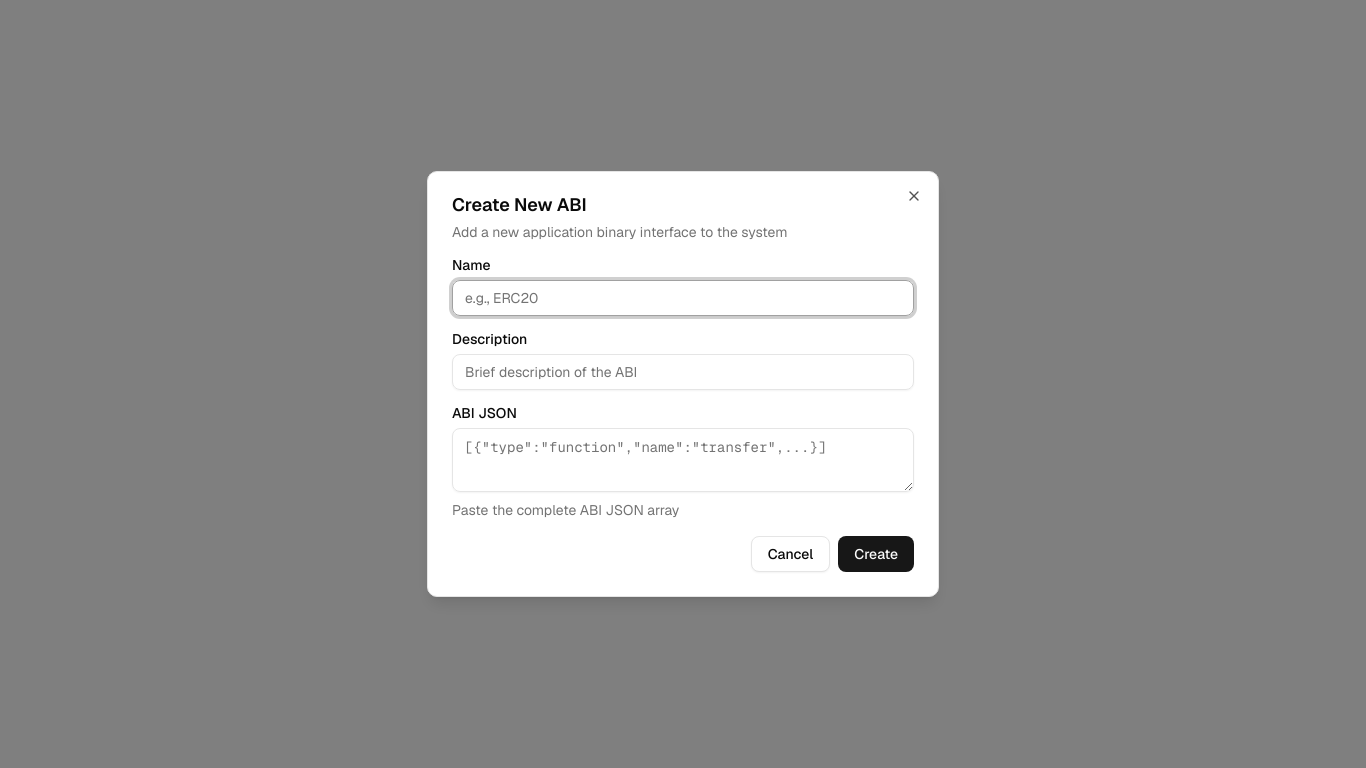
Test: AbiFormDialog › Create mode › shows validation error when ABI JSON is empty
In the field labelled "Name": coordinates (683, 298) [452,280,914,316], type "Test ABI"
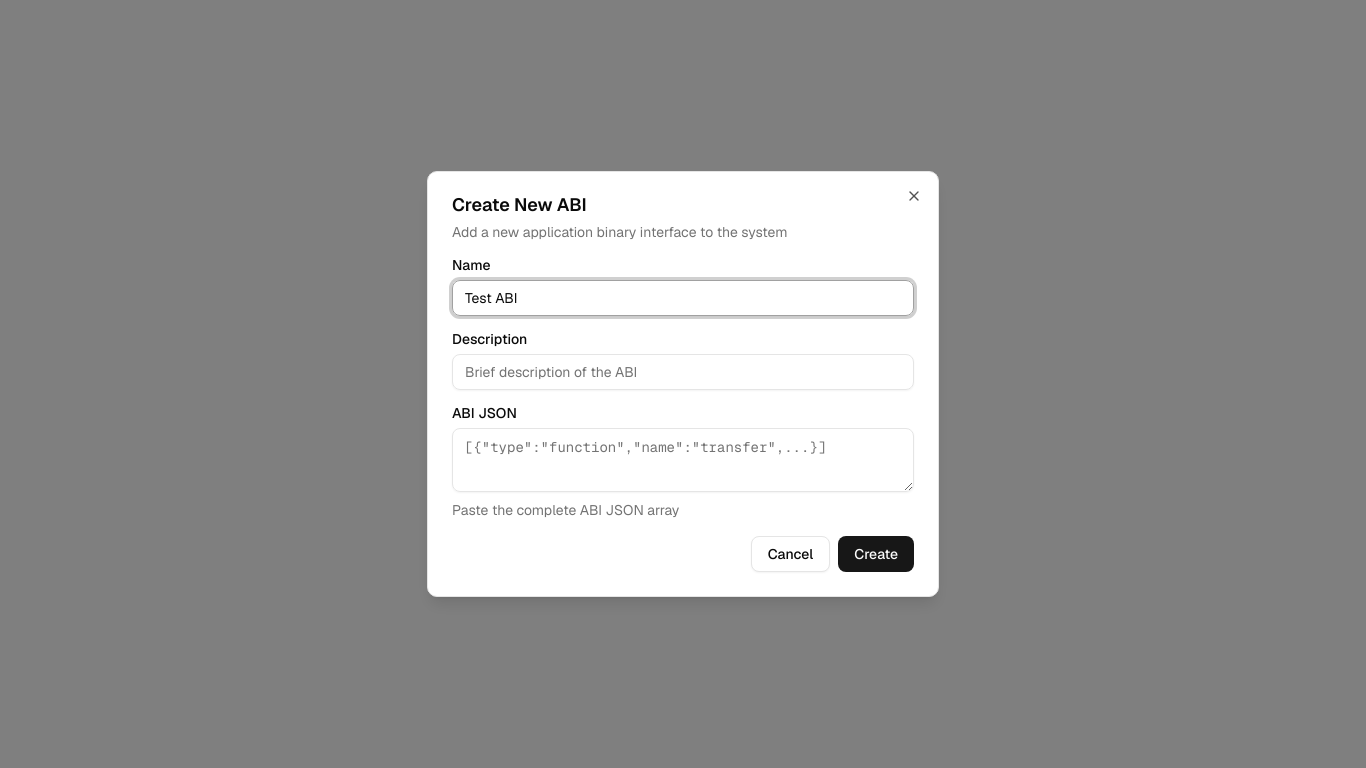
Click the button "Create": coordinates (876, 554) [838,536,914,572]
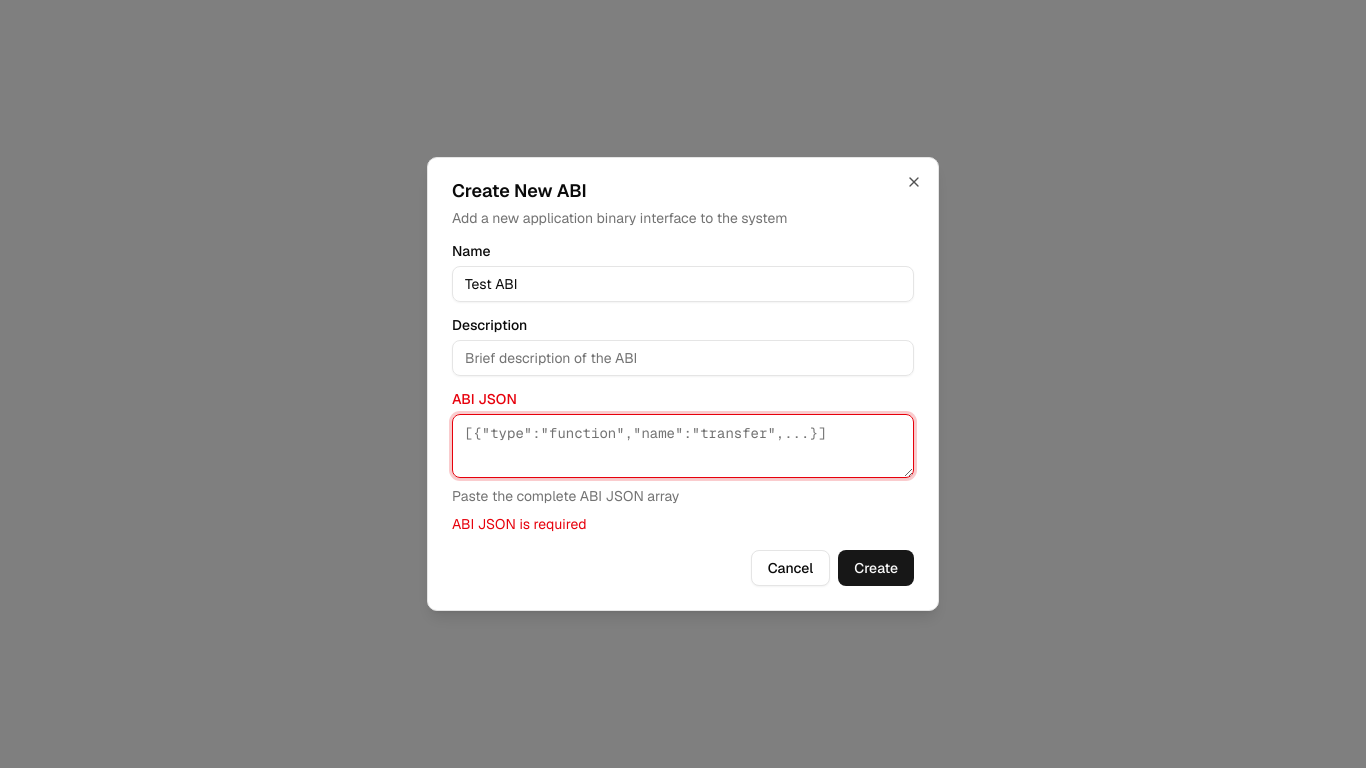
Check: the text "ABI JSON is required" is shown, box [452,515,586,533]
